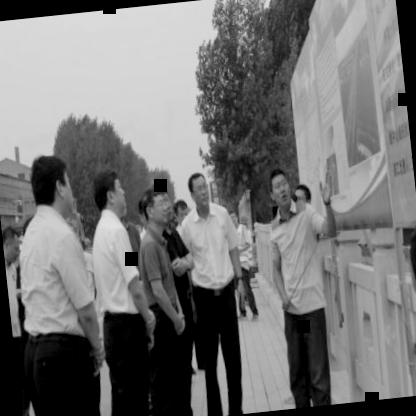head: (26, 152, 74, 224), (90, 164, 130, 220), (136, 185, 167, 232), (265, 166, 293, 212), (186, 164, 212, 212), (0, 219, 24, 268), (156, 179, 177, 227), (293, 182, 315, 223), (174, 196, 193, 234)
